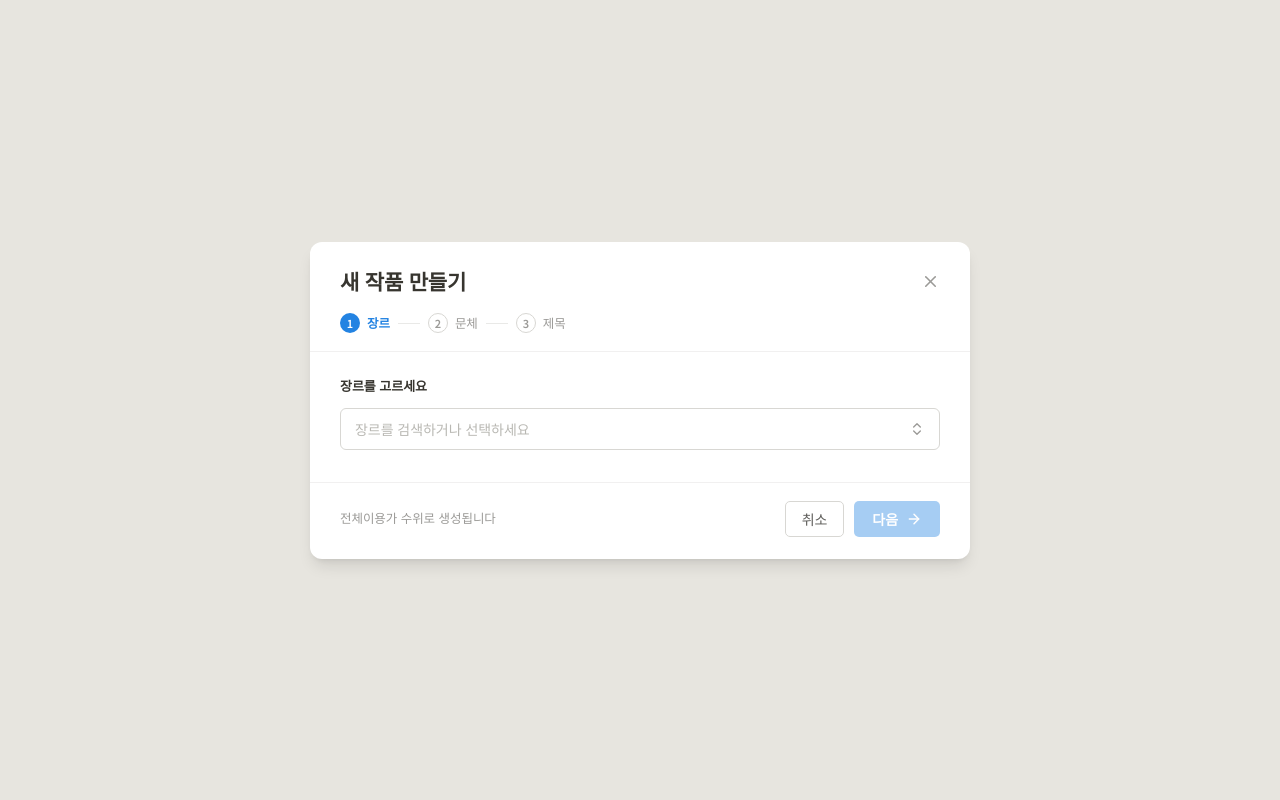
Test: NewWorkScreen › 장르 미선택 시 다음 버튼이, 제목이 비어있으면 작품 시작 버튼이 비활성화된다
Expected: the button "다음" is disabled, x1=854 y1=500 x2=940 y2=536
Click the button "장르를 검색하거나 선택하세요": {"x": 442, "y": 428} x1=340 y1=408 x2=940 y2=450
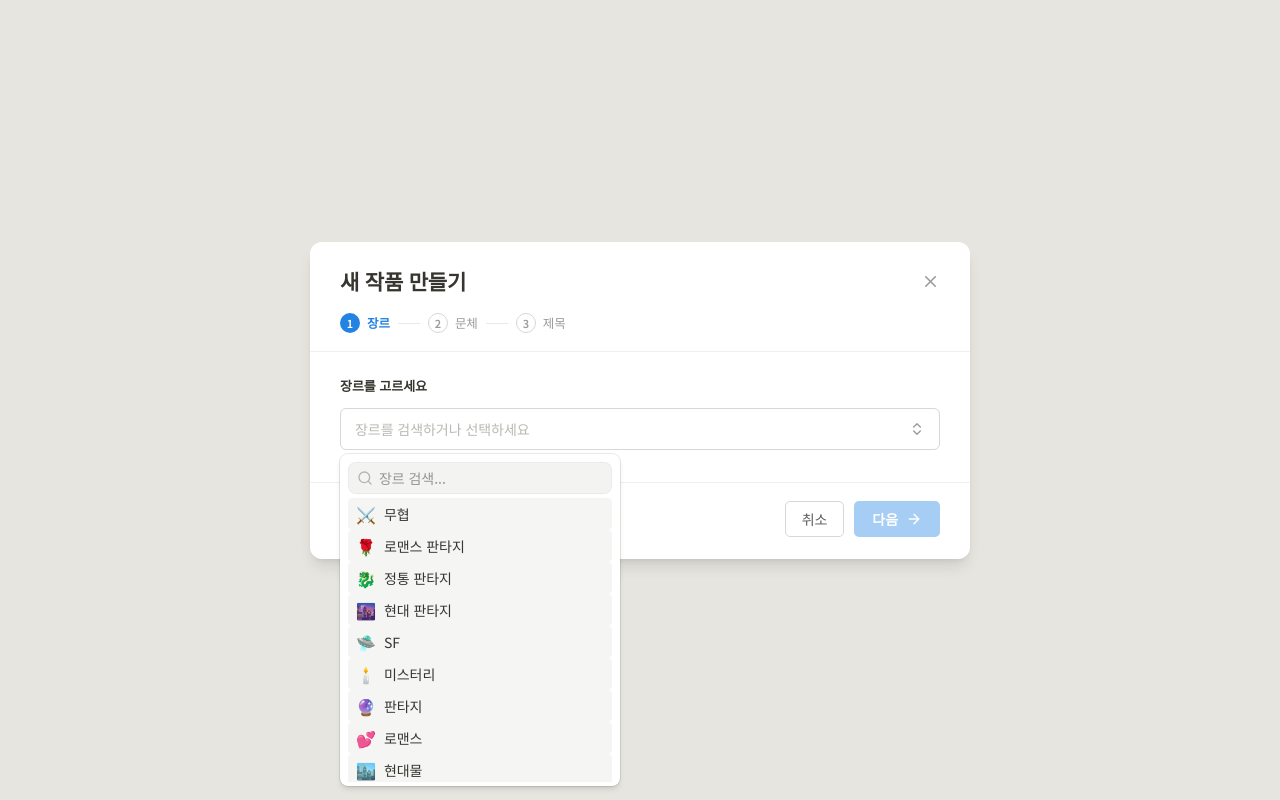
Click the option "⚔️ 무협": {"x": 366, "y": 514} x1=348 y1=498 x2=612 y2=530
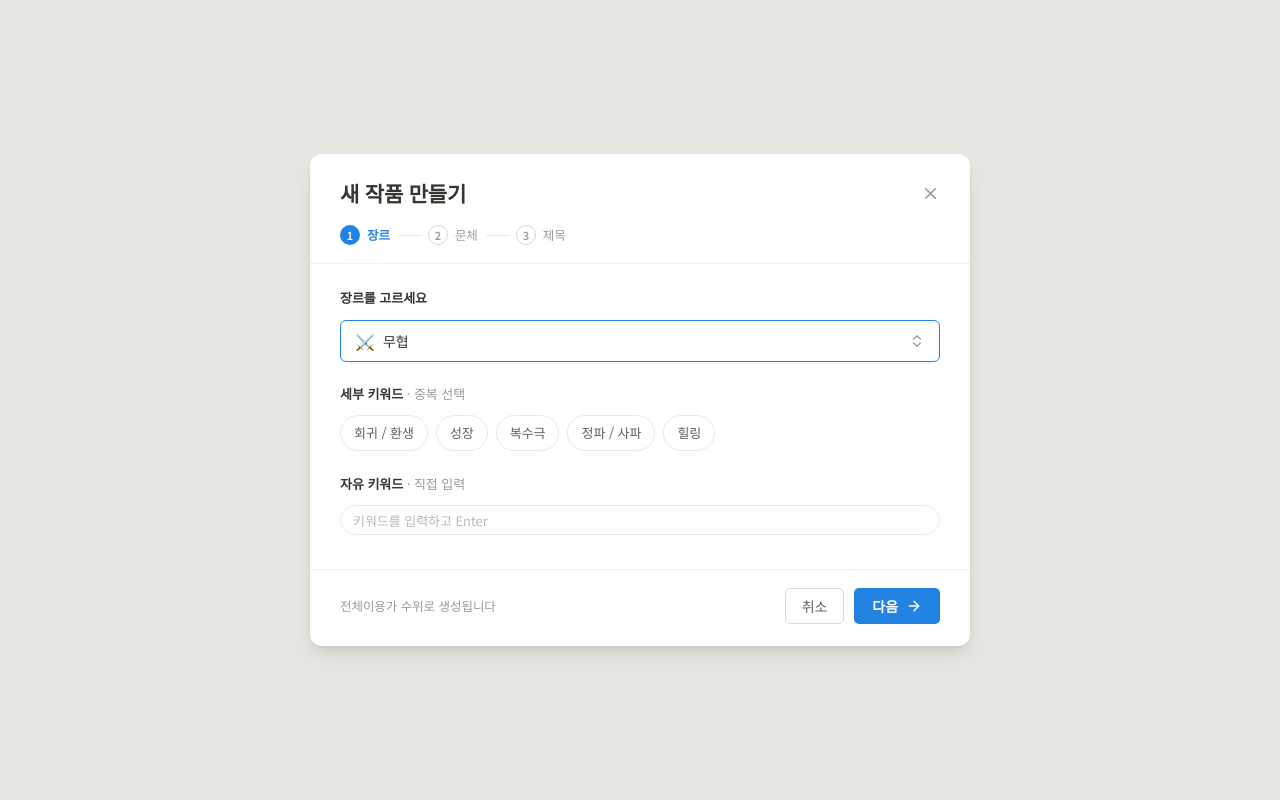
Expected: the button "다음" is enabled
Click the button "다음": {"x": 897, "y": 606} x1=854 y1=588 x2=940 y2=624
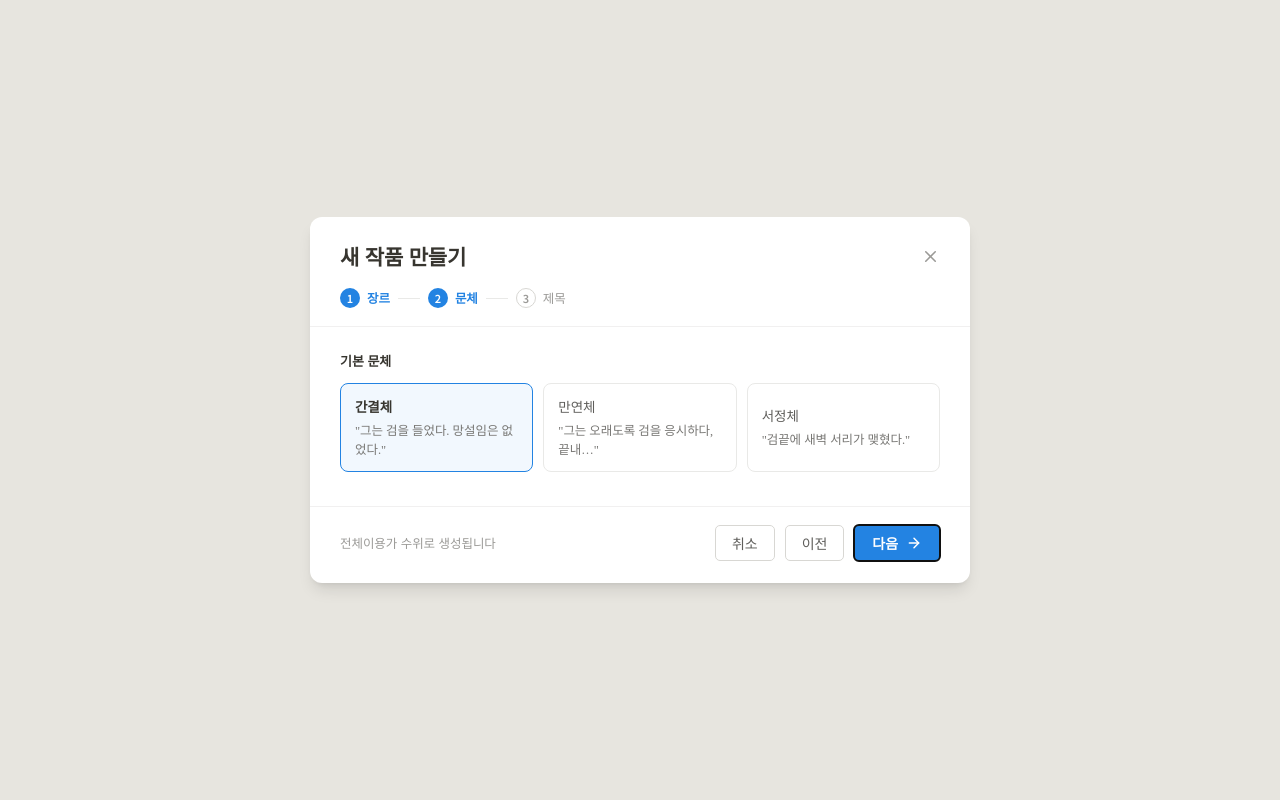
Click the button "다음": {"x": 897, "y": 543} x1=854 y1=525 x2=940 y2=561
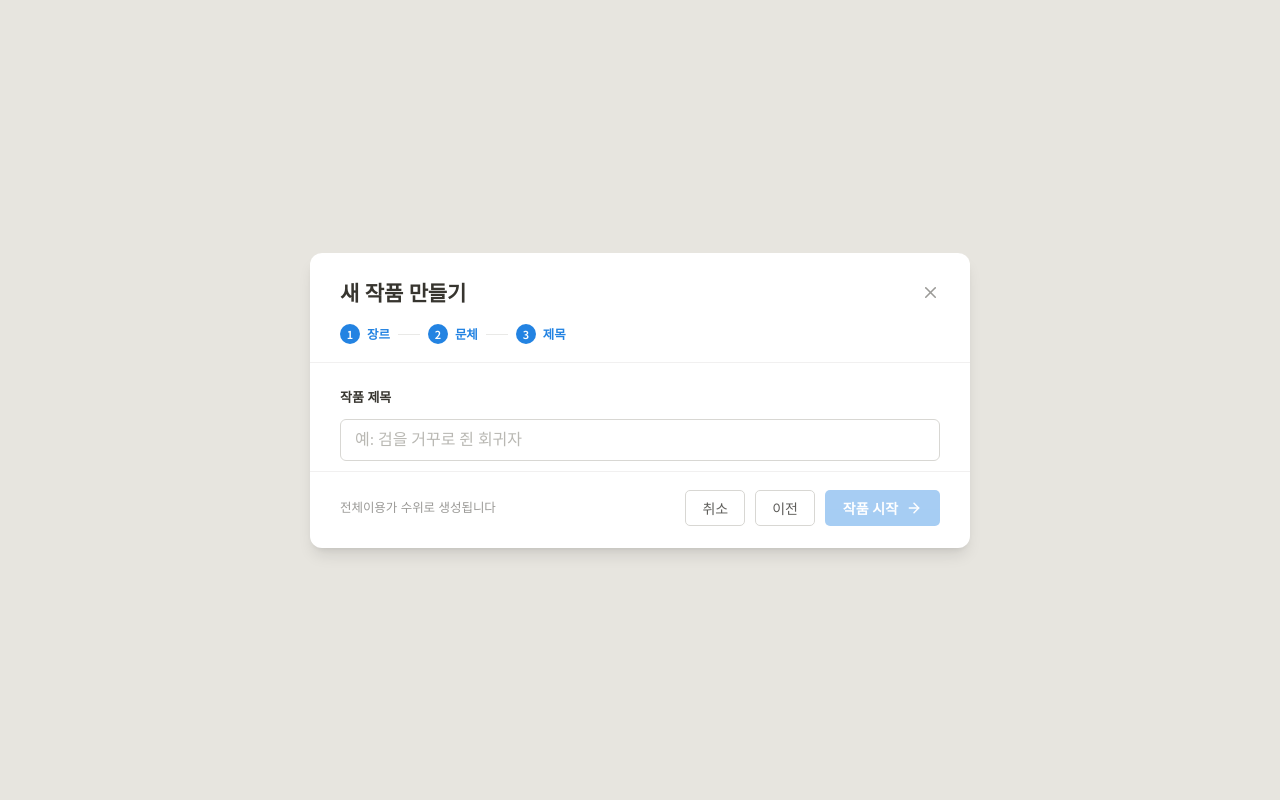
Expected: the button "작품 시작" is disabled, x1=825 y1=490 x2=940 y2=526
In the field with placeholder "예: 검을 거꾸로 쥔 회귀자": {"x": 640, "y": 440} x1=340 y1=418 x2=940 y2=460, type "제목"
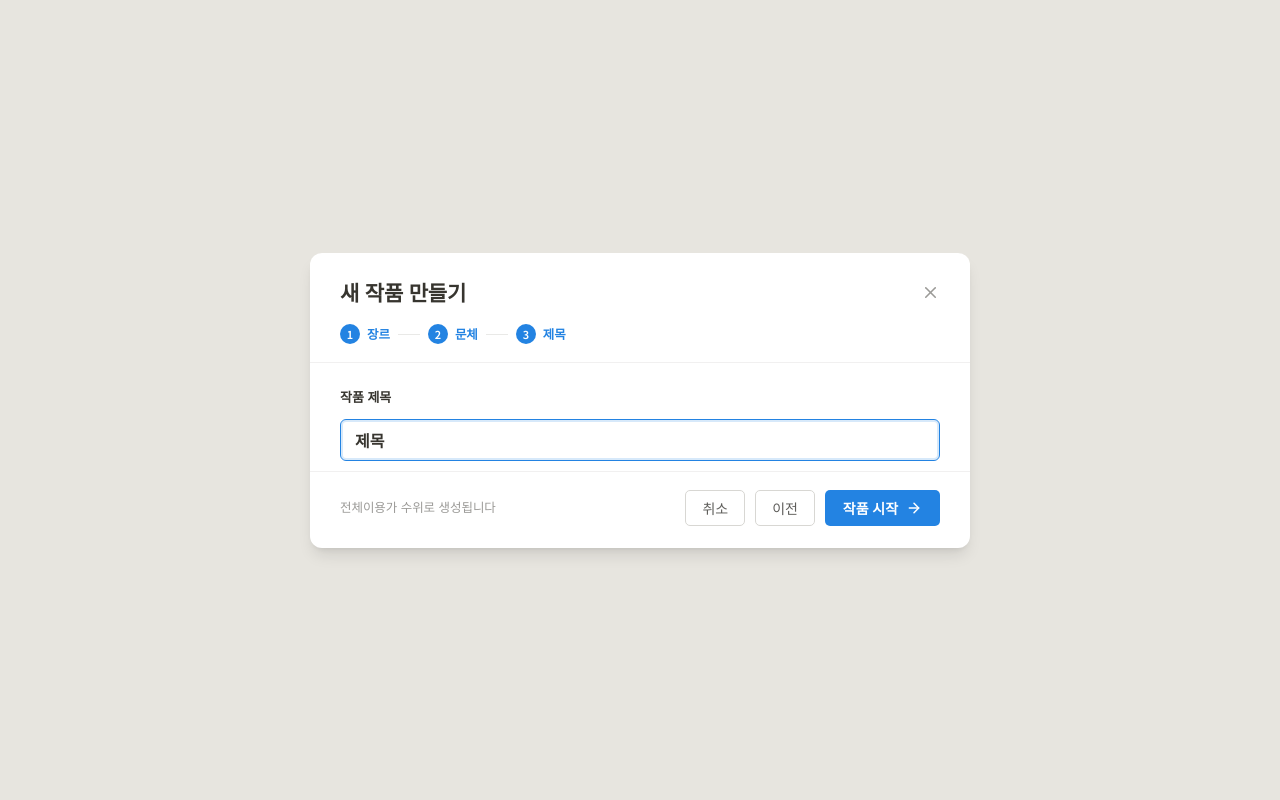
Expected: the button "작품 시작" is enabled, x1=825 y1=490 x2=940 y2=526
